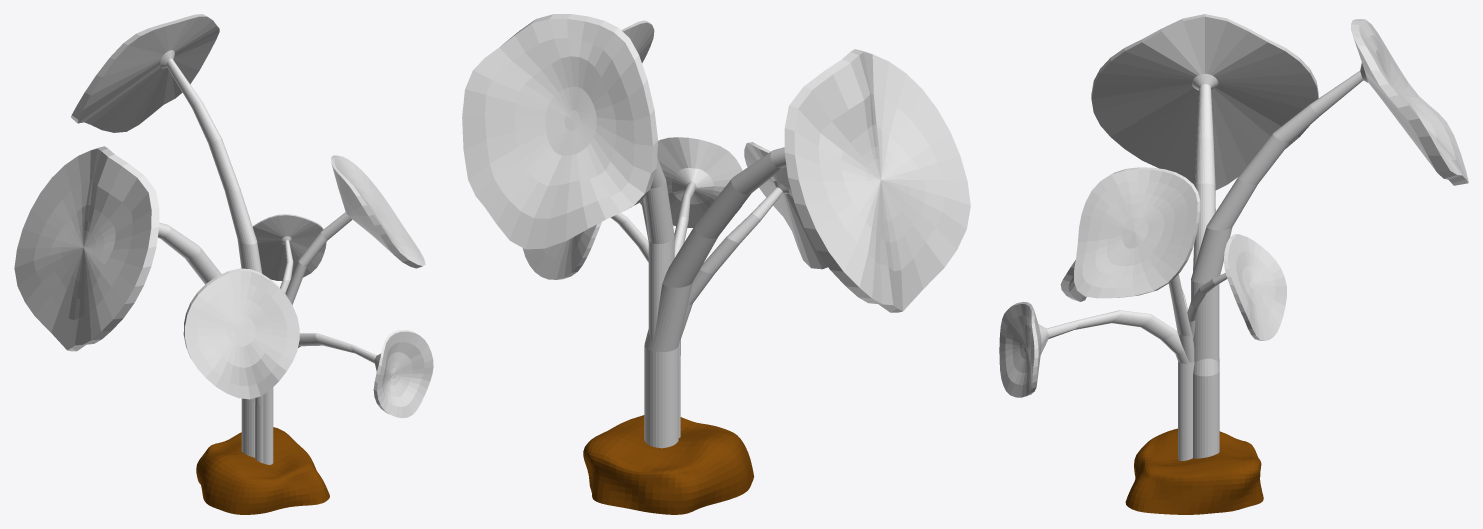
Rendered from Pileapepe_M.fbx.
The picture shows the model from 3 angles, left to right: view 1: azimuth 30°, elevation 25°; view 2: azimuth 150°, elevation 25°; view 3: azimuth 270°, elevation 25°; orthographic projection. The views are drawn at different scales.
Visible parts, largest first — view 1: Circle; view 2: Circle; view 3: Circle.
Part boxes in pixels (x1,y1,x2,y2): Circle: (14, 14, 433, 514); Circle: (462, 14, 970, 514); Circle: (999, 14, 1468, 514).
Size of the model in its own units: 1459 by 1824 by 1663.
